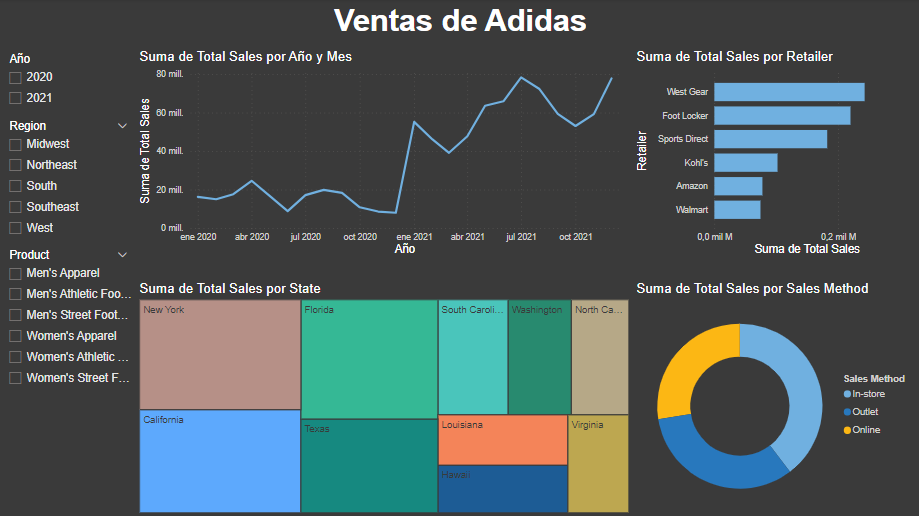

This screenshot's page, from the dashboard's own definition file:
{"tool":"powerbi","page":{"name":"Página 1","canvas":[1280,720],"ordinal":0},"visuals":[{"type":"lineChart","fields":{"Y":["Sum(Data.Total Sales)"],"Category":["Data.Invoice Date.Variación.Jerarquía de fechas.Año","Data.Invoice Date.Variación.Jerarquía de fechas.Mes"]},"box":[189.1,69,690.3,291.1],"z":0},{"type":"treemap","fields":{"Group":["Data.State"],"Values":["Sum(Data.Total Sales)"]},"box":[189.1,391.7,690.3,327.1],"z":1000},{"type":"donutChart","fields":{"Category":["Data.Sales Method"],"Y":["Sum(Data.Total Sales)"]},"box":[879.3,391.7,400.7,327.1],"z":2000},{"type":"barChart","fields":{"Y":["Sum(Data.Total Sales)"],"Category":["Data.Retailer"]},"box":[879.3,69,400.7,291.1],"z":3000},{"type":"slicer","fields":{"Values":["Data.Invoice Date.Variación.Jerarquía de fechas.Año"]},"box":[0,69,189.1,93],"z":4000},{"type":"textbox","box":[0,0,1280,69],"z":5000},{"type":"slicer","fields":{"Values":["Data.Region"]},"box":[0,162.1,189.1,180.1],"z":5001},{"type":"slicer","fields":{"Values":["Data.Product"]},"box":[0,342.1,189.1,213.1],"z":5002}]}

Visuals, with their boxes in screenshot pixels (x1, y1, x2, y2), scaled from the page's 1280x720 canvas onto the 919x516 screenshot:
lineChart - Sum(Data.Total Sales) x Data.Invoice Date.Variación.Jerarquía de fechas.Año: [136, 49, 631, 258]
treemap - Data.State x Sum(Data.Total Sales): [136, 281, 631, 515]
donutChart - Data.Sales Method x Sum(Data.Total Sales): [631, 281, 918, 515]
barChart - Sum(Data.Total Sales) x Data.Retailer: [631, 49, 918, 258]
slicer - Data.Invoice Date.Variación.Jerarquía de fechas.Año: [0, 49, 136, 116]
textbox: [0, 0, 918, 49]
slicer - Data.Region: [0, 116, 136, 245]
slicer - Data.Product: [0, 245, 136, 398]
